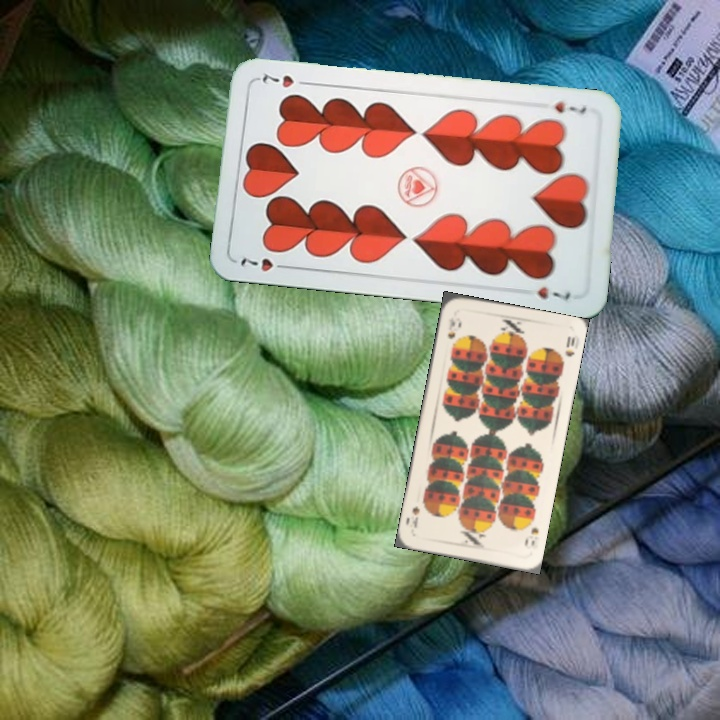H7: (236, 253, 293, 274), (550, 97, 589, 116)
S10: (521, 523, 541, 549), (444, 313, 458, 342)
